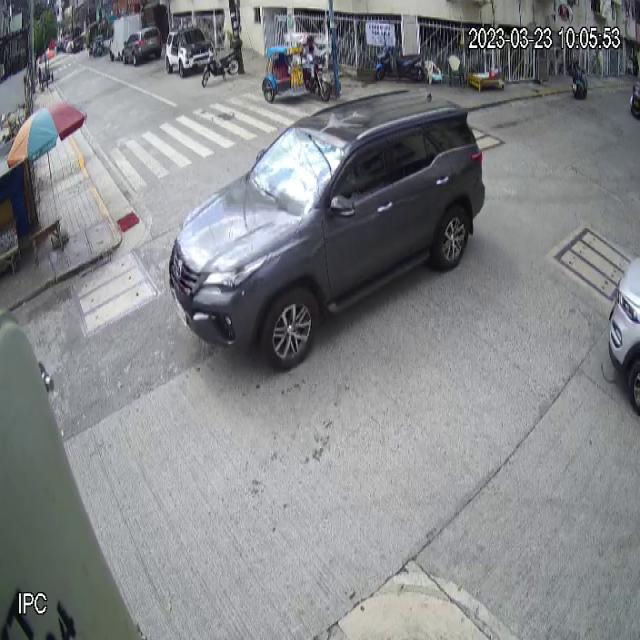Car: (163, 84, 487, 377)
Tricycle: (262, 30, 331, 104)
